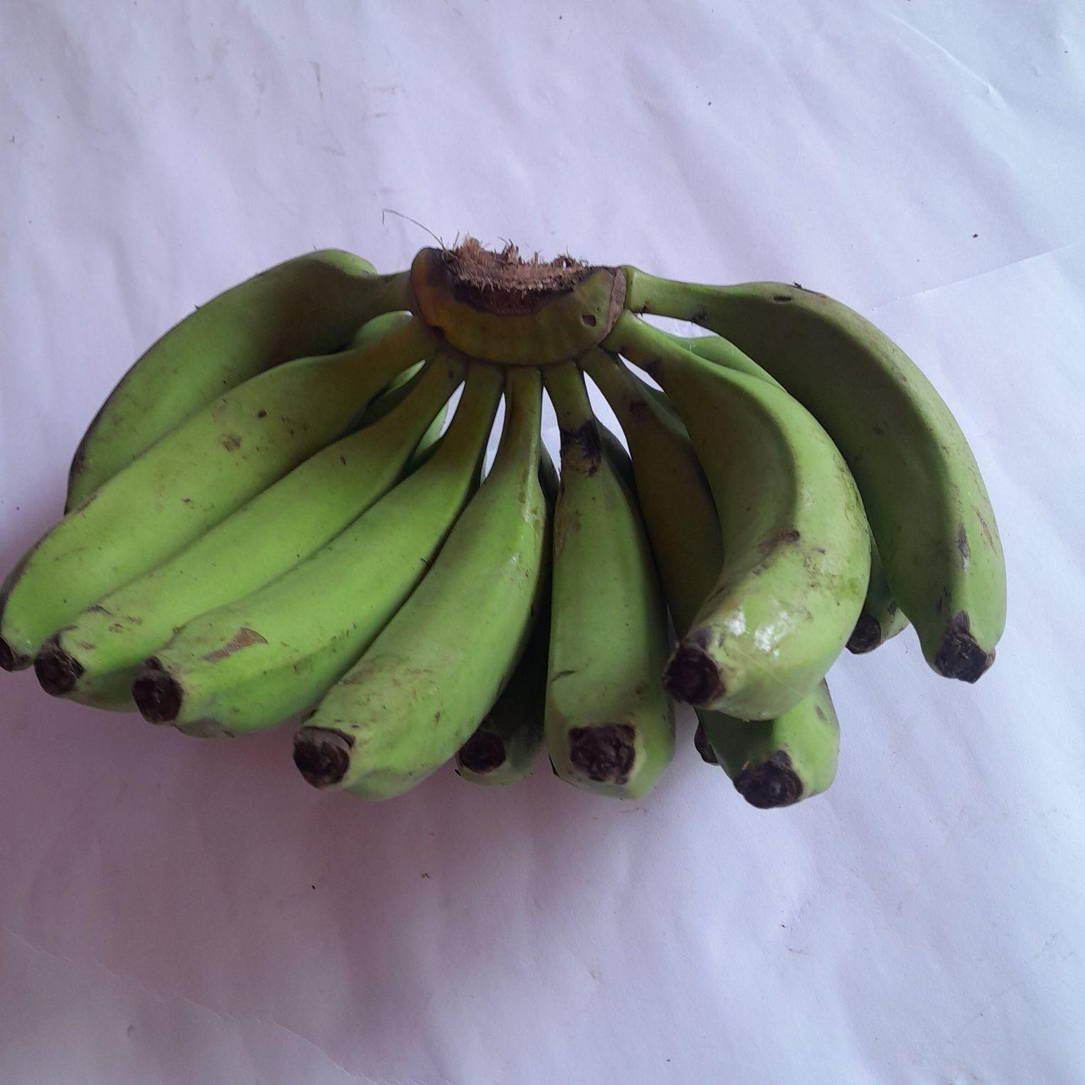Banana Unripe: (627, 267, 1007, 679), (0, 320, 434, 670), (34, 356, 464, 708), (134, 364, 500, 735), (295, 367, 547, 799), (606, 312, 871, 721), (66, 250, 411, 510), (545, 362, 674, 799), (581, 348, 723, 636)
